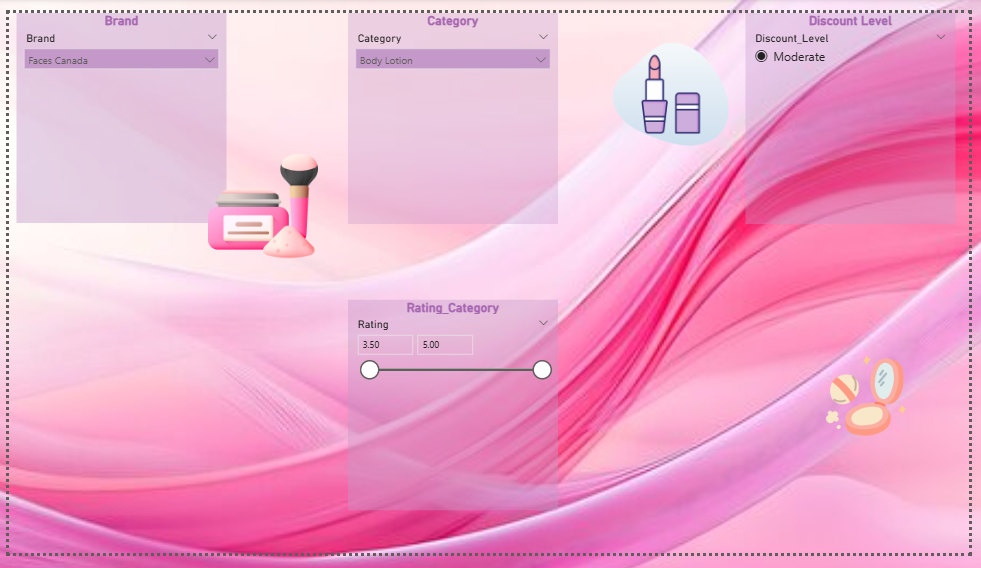

The page's visual inventory and layout, read from the dashboard file:
{"tool":"powerbi","page":{"name":"Page 3","canvas":[1280,720],"ordinal":2},"visuals":[{"type":"slicer","title":"Brand","fields":{"Values":["beauty_products_500.Brand"]},"box":[10,0,280,280],"z":0},{"type":"slicer","title":"Category","fields":{"Values":["beauty_products_500.Category"]},"box":[451.7,0,279.7,281.6],"z":1},{"type":"slicer","title":"Discount Level","fields":{"Values":["beauty_products_500.Discount_Level"]},"box":[982.7,0,279.7,281.6],"z":2},{"type":"slicer","title":"Rating_Category","fields":{"Values":["beauty_products_500.Rating"]},"box":[451.7,381.7,279.7,281.6],"z":3},{"type":"image","box":[1071.5,438.4,141.7,143.6],"z":5},{"type":"image","box":[797.5,24.6,168.2,168.2],"z":6},{"type":"image","box":[260.8,177.6,156.9,158.7],"z":7}]}

Visuals, with their boxes in screenshot pixels (x1, y1, x2, y2), scaled from the page's 1280x720 canvas onto the 981x568 screenshot:
"Brand" slicer: (x1=8, y1=0, x2=222, y2=221)
"Category" slicer: (x1=346, y1=0, x2=561, y2=222)
"Discount Level" slicer: (x1=753, y1=0, x2=968, y2=222)
"Rating_Category" slicer: (x1=346, y1=301, x2=561, y2=523)
image: (x1=821, y1=346, x2=930, y2=459)
image: (x1=611, y1=19, x2=740, y2=152)
image: (x1=200, y1=140, x2=320, y2=265)
